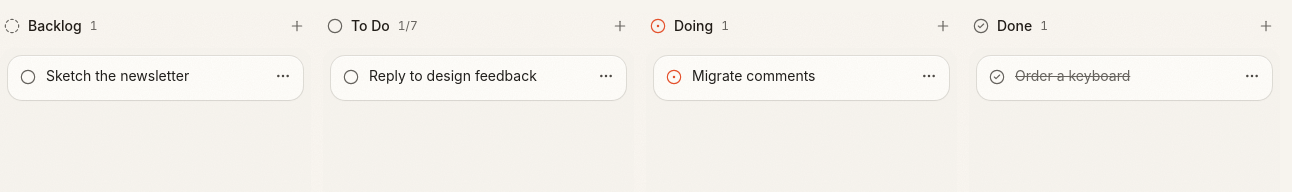
the + in a column's header › opens a composer at the top of its column, focused, and says what to do
Click the button named "Add to Doing" at (943,26), box [929,12,957,40]
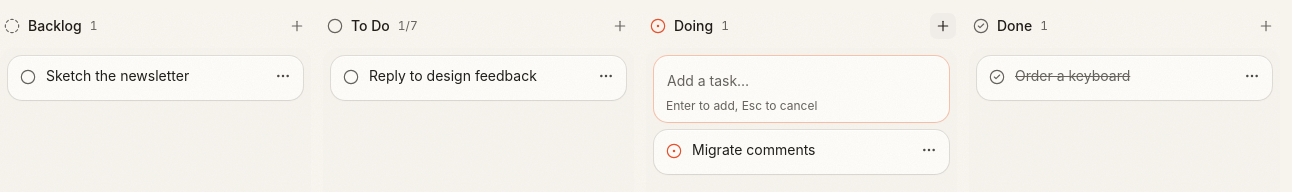
Result: the element with test id "planner-composer" is shown at [654,56,949,122]
Result: the element with test id "planner-composer" reads "Enter to add, Esc to cancel" at [666,98,817,113]
